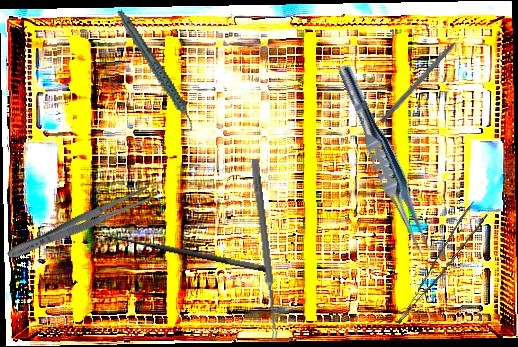Dressing Forceps: (4, 184, 153, 264)
Handpiece: (115, 0, 196, 142)
Hook Surgical: (88, 226, 273, 287), (378, 30, 469, 125)
Surgical Spoon: (249, 158, 281, 341)
Tissue Forceps: (328, 61, 441, 261), (379, 201, 494, 324)
